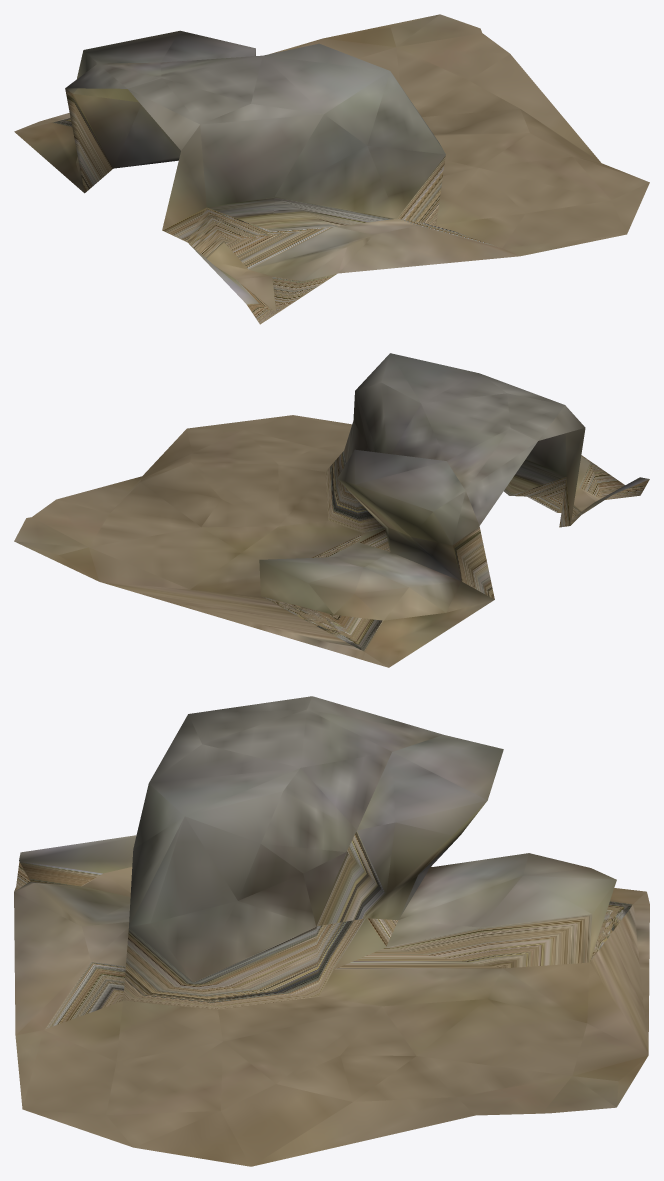
File: pebble_03.obj
3 renders of one model, top to bottom at view 1: azimuth 30°, elevation 25°; view 2: azimuth 150°, elevation 25°; view 3: azimuth 270°, elevation 25°, orthographic. The views are drawn at different scales.
Parts seen in each view (by area): view 1: pebble_03; view 2: pebble_03; view 3: pebble_03.
Boxes of the visible parts, box(x1,y1,x2,y2) form: pebble_03: box(14, 14, 649, 324); pebble_03: box(14, 353, 649, 667); pebble_03: box(14, 696, 649, 1166).
Bounding box in the file's own units: 0.6006 × 0.2235 × 0.5994.
Materials: 1 (1 with a texture image).
